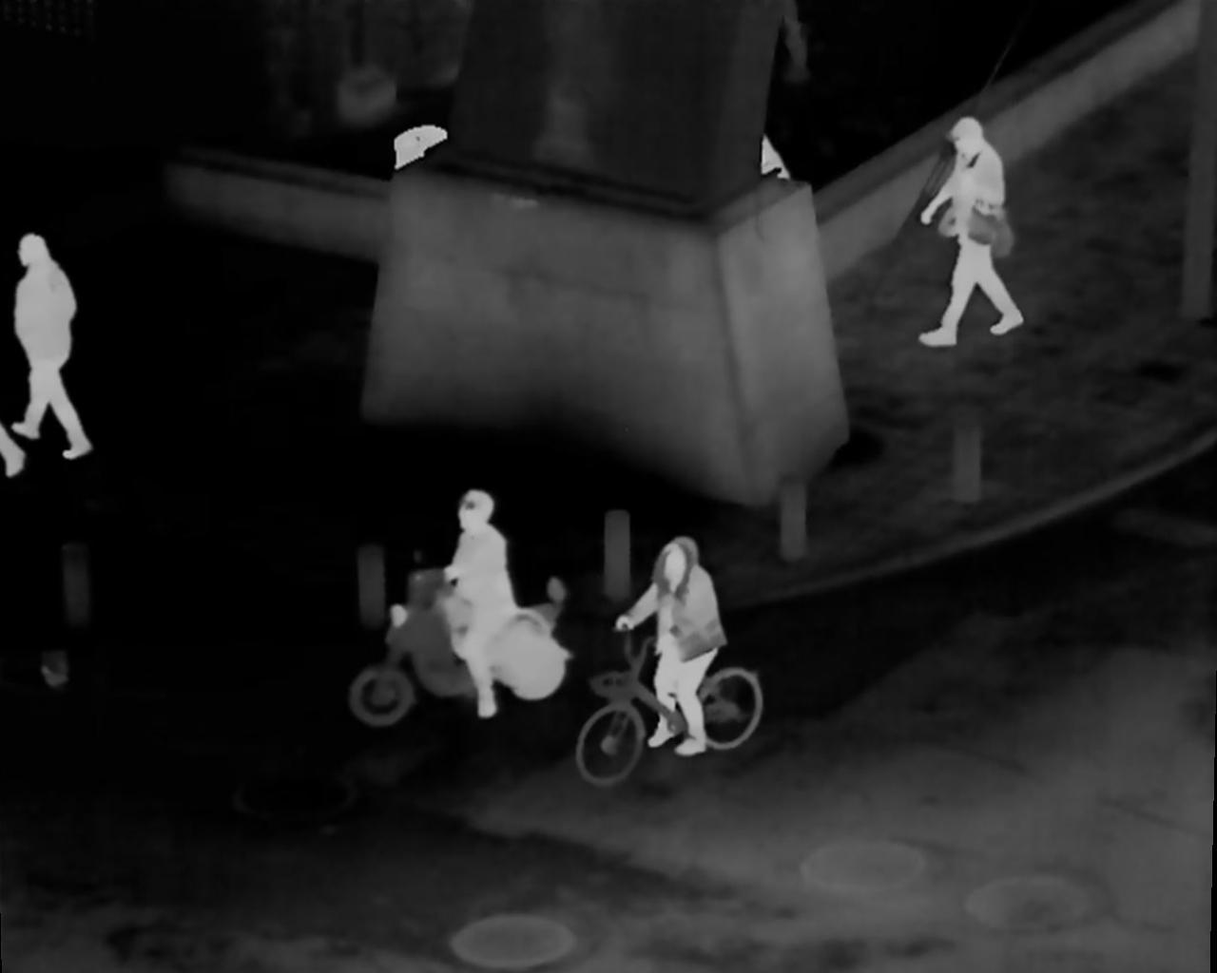person: (916, 119, 1024, 348), (623, 527, 730, 749), (15, 231, 103, 462), (443, 487, 525, 710)
